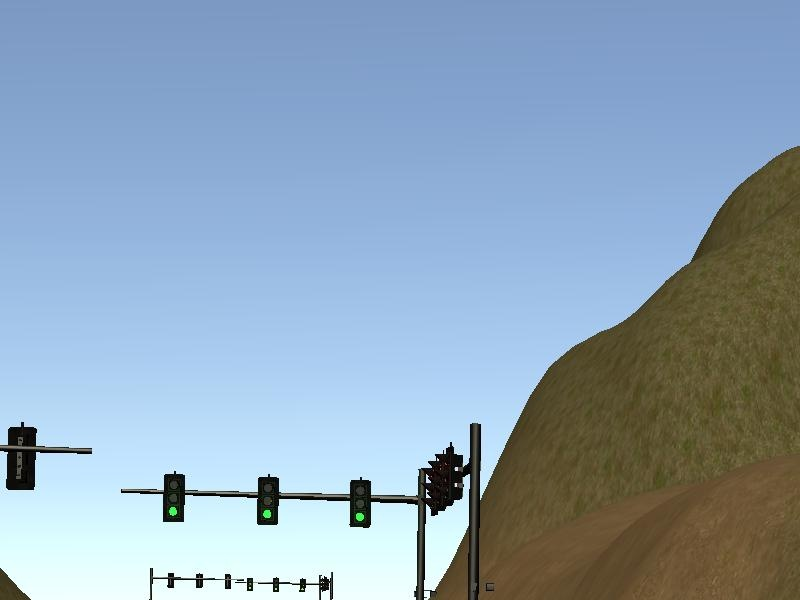green: (163, 472, 188, 523), (349, 479, 373, 529), (258, 474, 280, 528)
